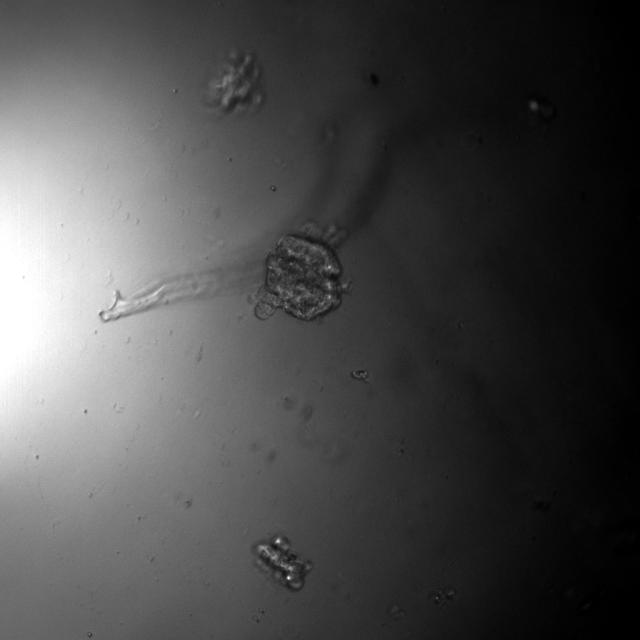organoid: (254, 225, 341, 320), (201, 50, 265, 116), (252, 533, 313, 591), (350, 369, 370, 383)
